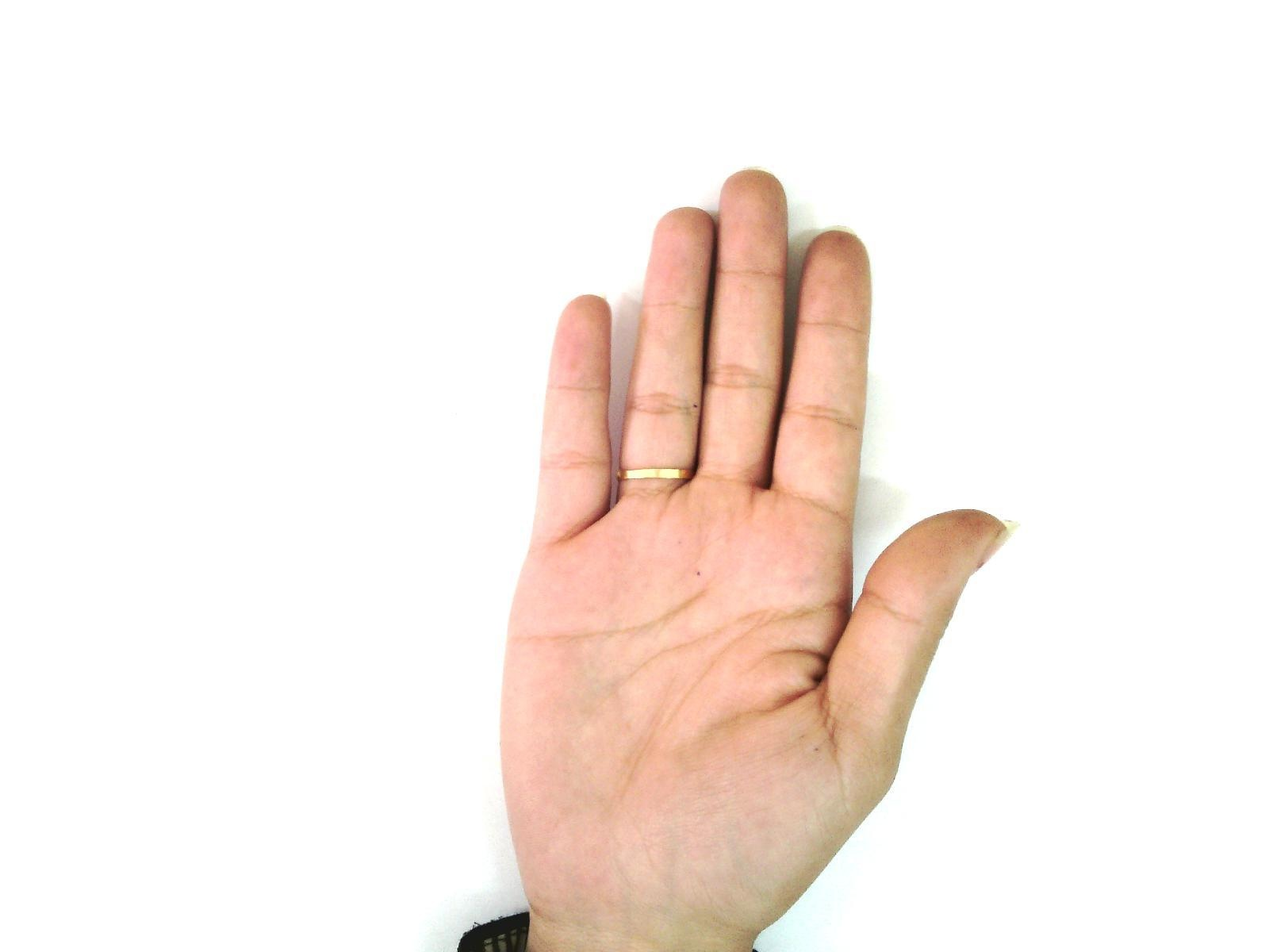open_palm: (493, 167, 1018, 950)
